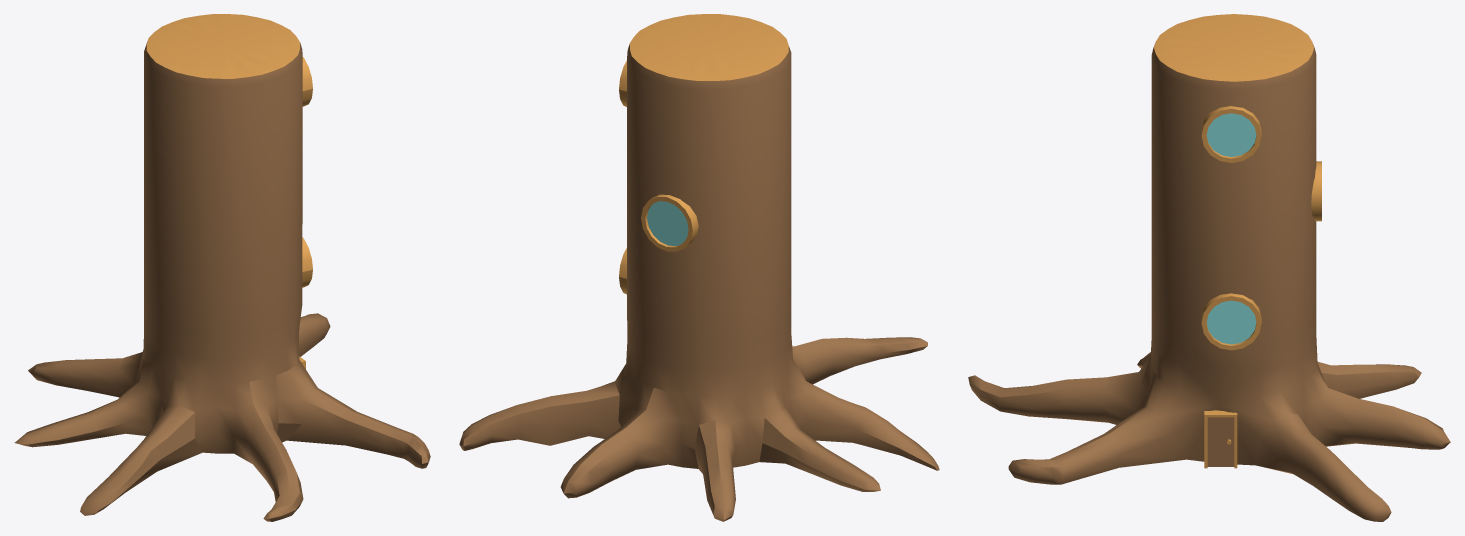
Rendered from Treehouse_small(1).fbx.
3 views of the same model, side by side, from view 1: azimuth 30°, elevation 25°; view 2: azimuth 150°, elevation 25°; view 3: azimuth 270°, elevation 25° (orthographic). The views are drawn at different scales.
Parts seen in each view (by area): view 1: Cube; view 2: Cube; view 3: Cube.
Boxes of the visible parts, x1,y1,x2,y2 form: Cube: [14, 14, 430, 521]; Cube: [459, 14, 939, 521]; Cube: [968, 14, 1450, 521].
Bounding box in the file's own units: 711 × 751 × 800.
